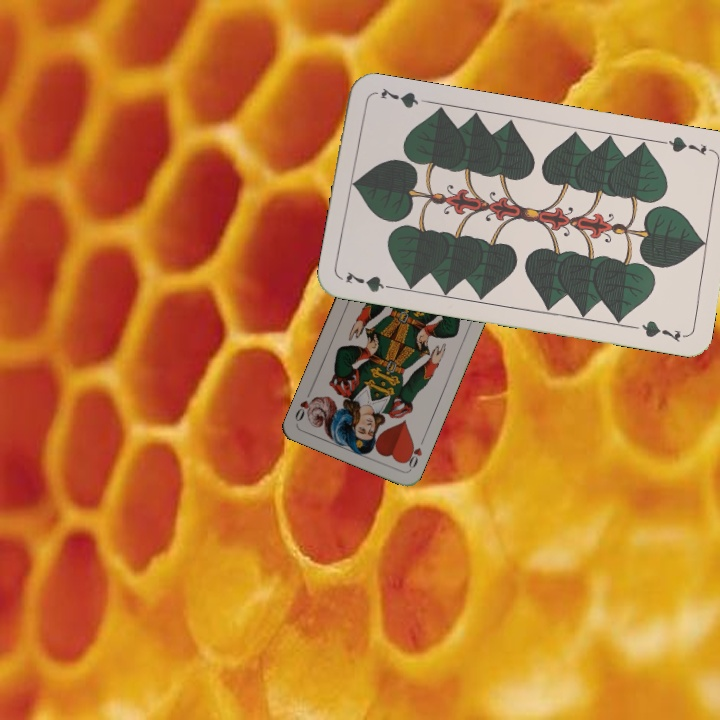G7: (342, 267, 400, 295), (658, 132, 709, 158)
HO: (401, 433, 427, 472)
